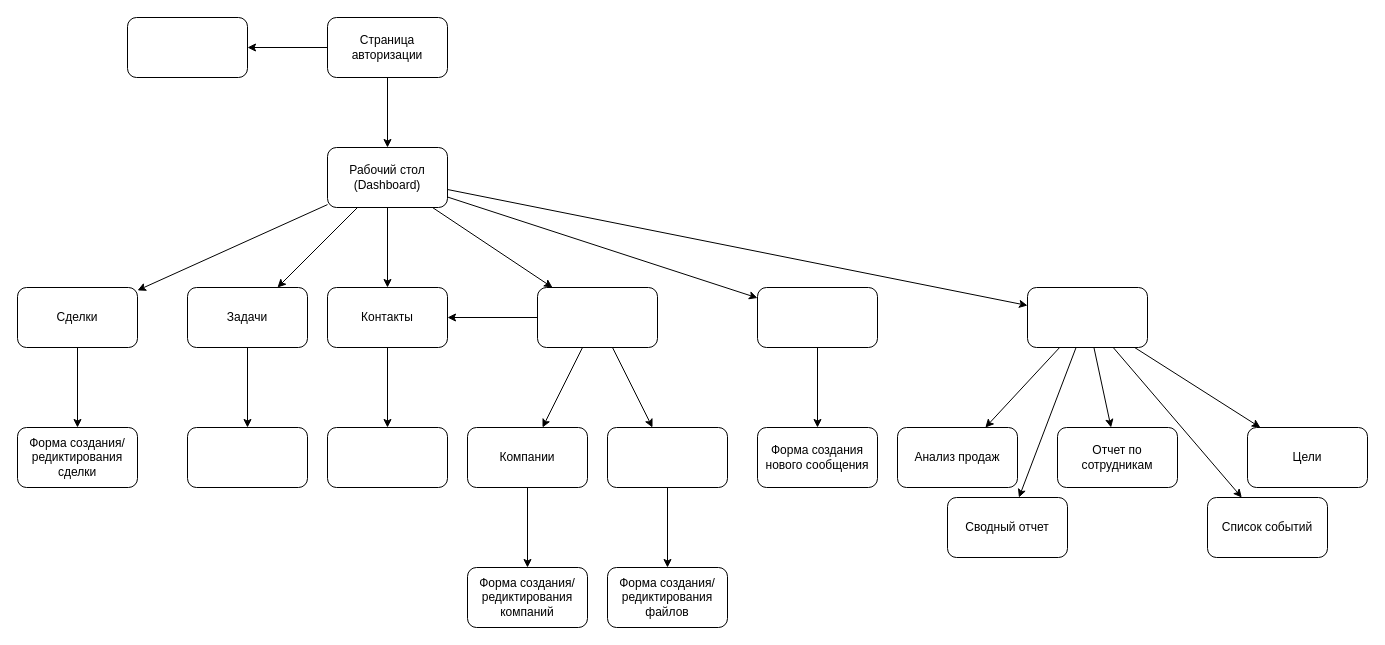
The diagram is 1385 pixels wide and 645 high, and some of its shapes have lost their labels. Each missing label, with the centre of its shape:
"Аналитика" goes at (x=1087, y=317).
"Почта" goes at (x=817, y=317).
"Списки" goes at (x=597, y=317).
"Страница Регистрации" goes at (x=187, y=47).
"Файлы" goes at (x=667, y=457).
"Форма создания/редиктирования задач" goes at (x=247, y=457).
"Форма создания/редиктирования контактов" goes at (x=387, y=457).
